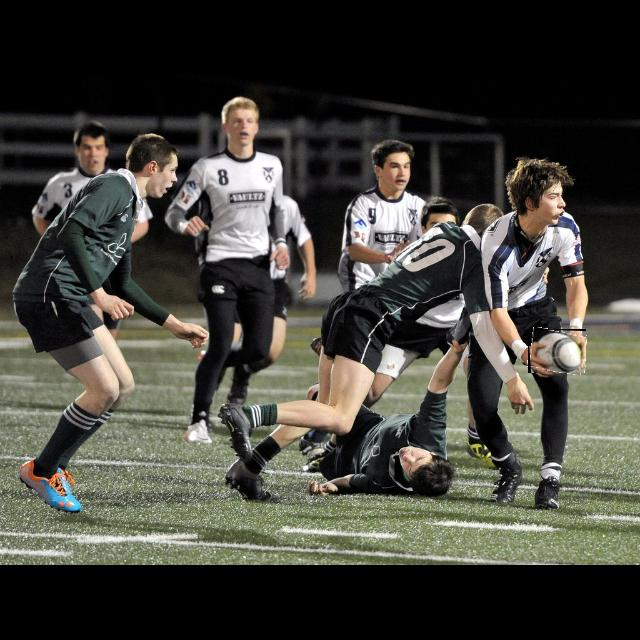Football: (528, 329, 586, 373)
